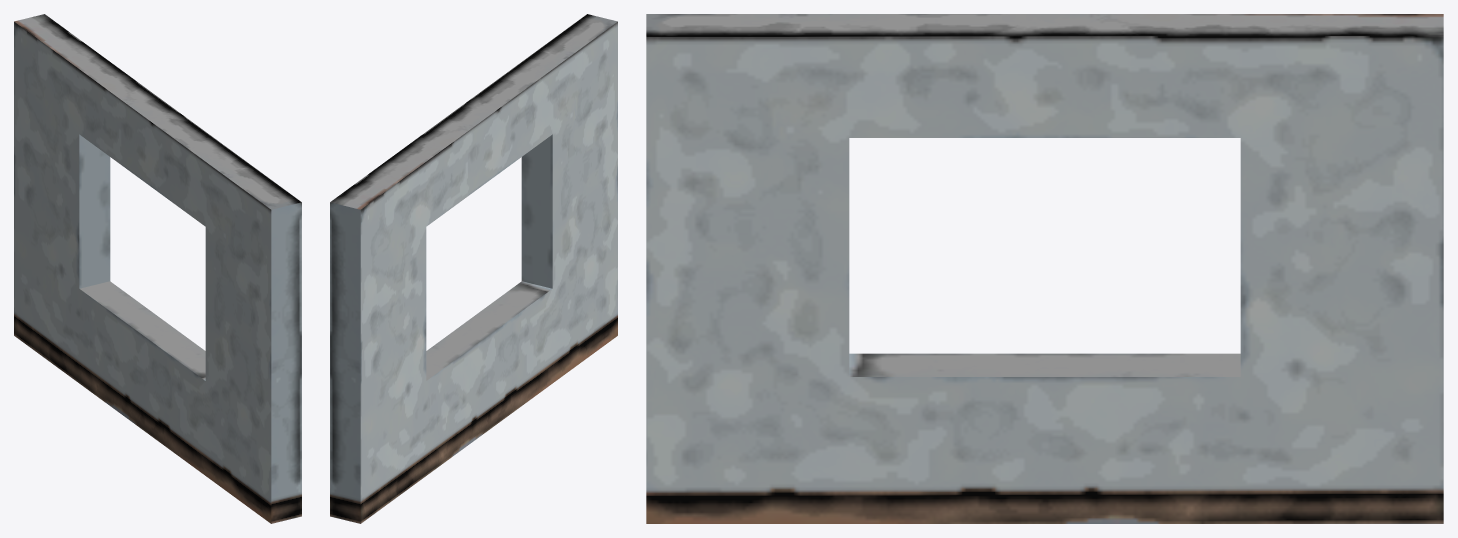
The model's file is WallWindow.fbx.
3 renders of one model, left to right at view 1: azimuth 30°, elevation 25°; view 2: azimuth 150°, elevation 25°; view 3: azimuth 270°, elevation 25°, orthographic. The views are drawn at different scales.
Visible parts, largest first — view 1: polySurface388; view 2: polySurface388; view 3: polySurface388.
Boxes of the visible parts, x1,y1,x2,y2 form: polySurface388: [14, 14, 301, 523]; polySurface388: [330, 14, 617, 523]; polySurface388: [646, 14, 1443, 523].
Size of the model in its own units: 23.38 by 229 by 339.
